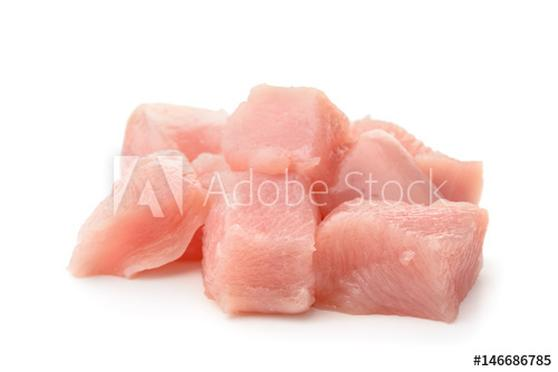chicken_fillet: (308, 190, 489, 326), (197, 165, 332, 315)
